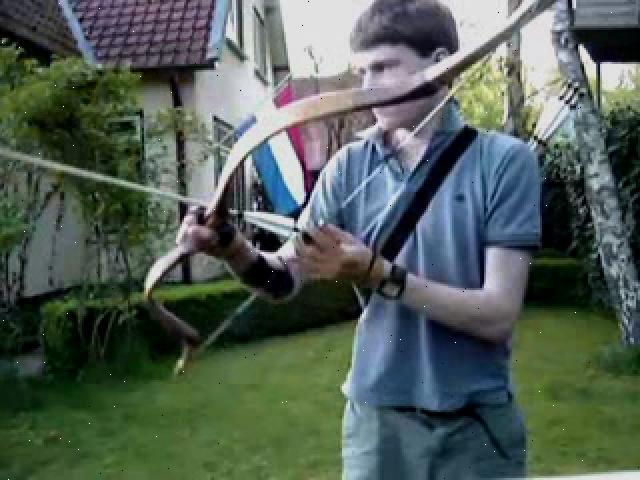P: (174, 0, 559, 480)
